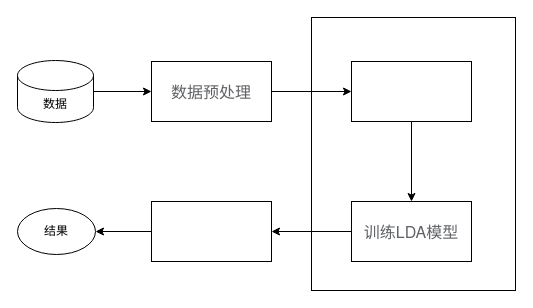
The diagram is 533 pixels wide and 308 high, and some of its shapes have lost their labels. Here are the shapes that lost their labels. From the top down, the centre of each, then its label:
point (411, 91): 构建词袋模型
point (211, 231): 分析主题
